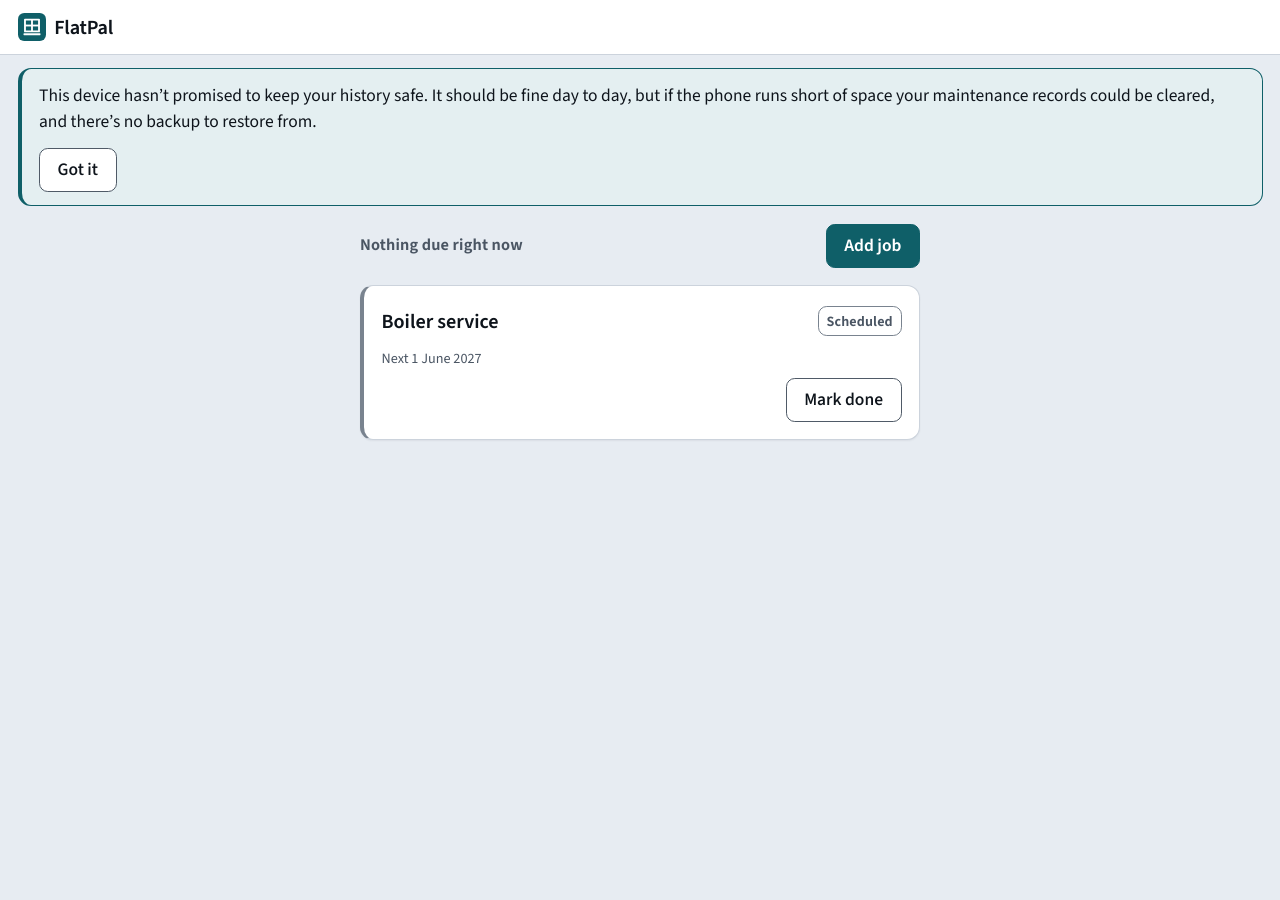
Test case: deleting a job › leaves the job exactly where it was when the deletion is cancelled
The width and height of the screenshot is (1280, 900).
Click the button "Boiler service" at [440, 321], box [382, 299, 499, 343]
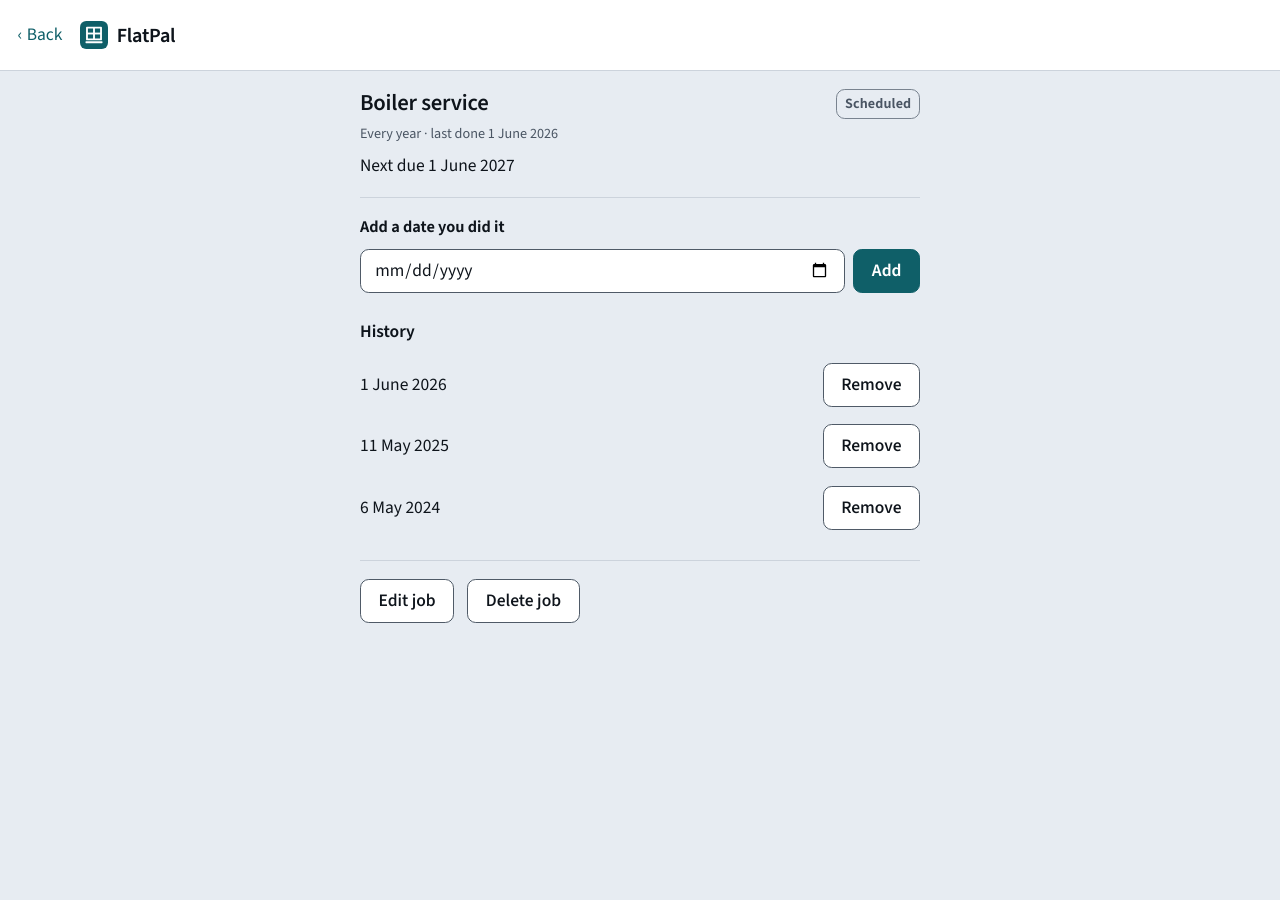
Click the button "Delete job" at [523, 601], box [467, 579, 580, 623]
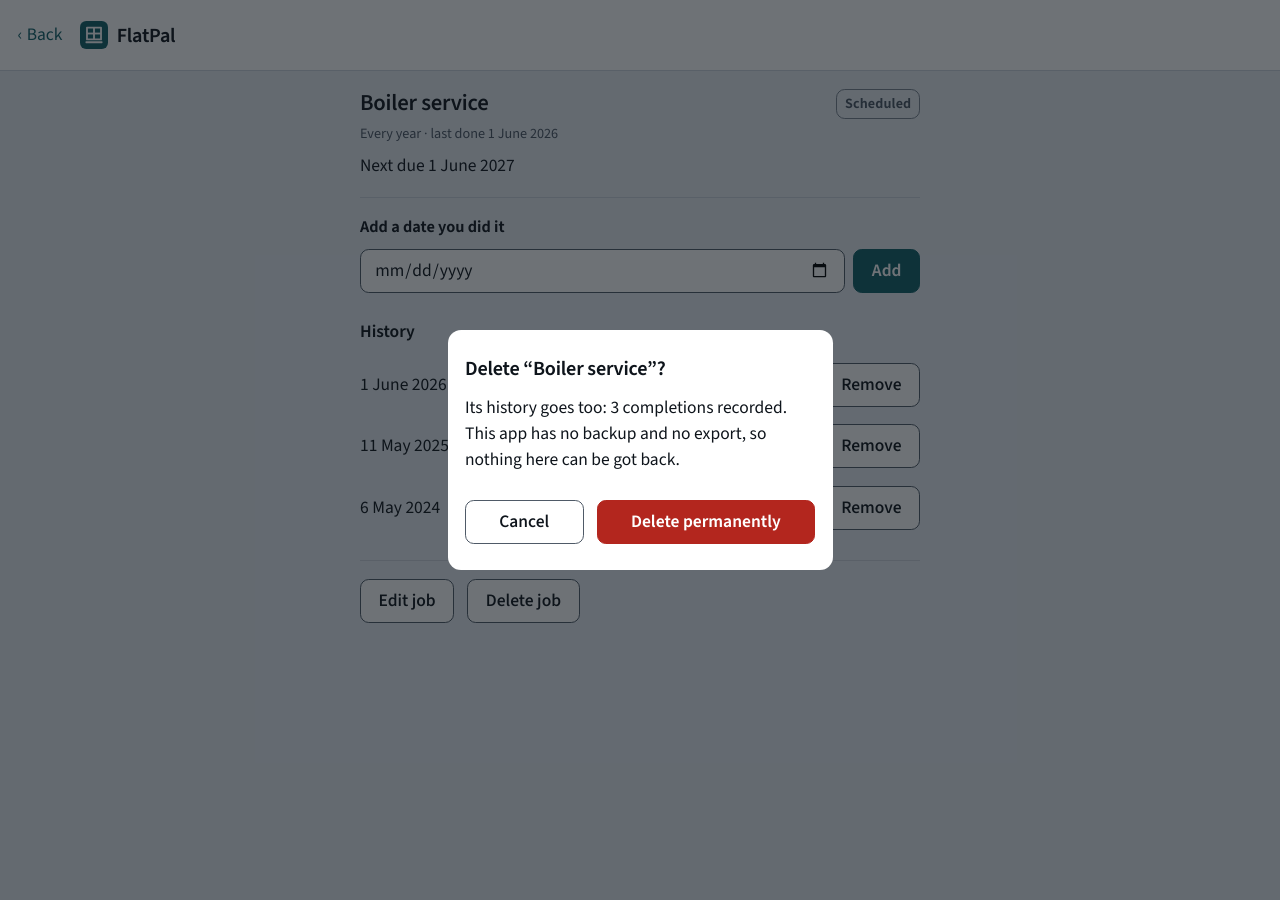
Click the button "Cancel" at [524, 522], box [465, 500, 584, 544]
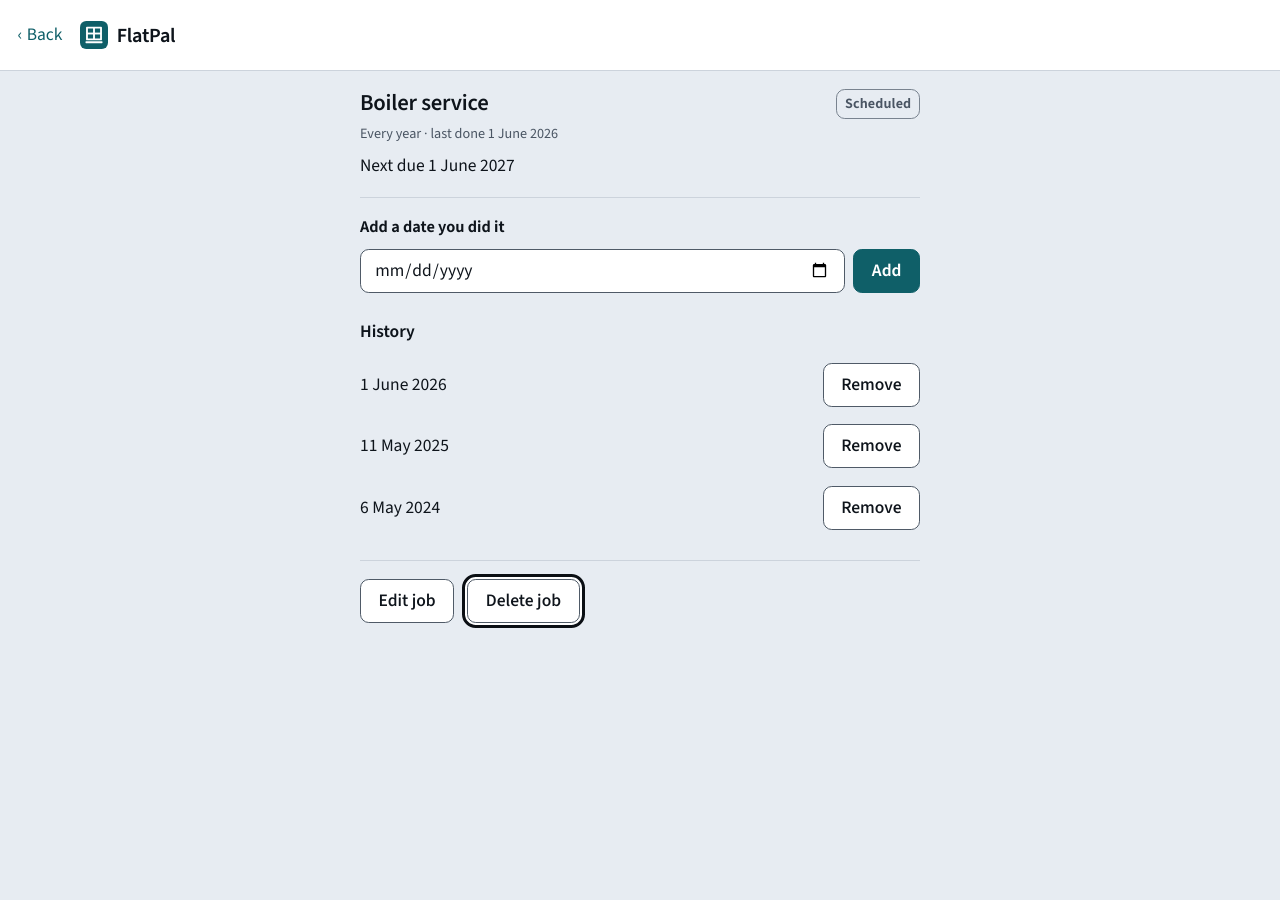
Check: the heading "Boiler service" is shown, box [360, 90, 488, 118]
Check: the dialog is gone
